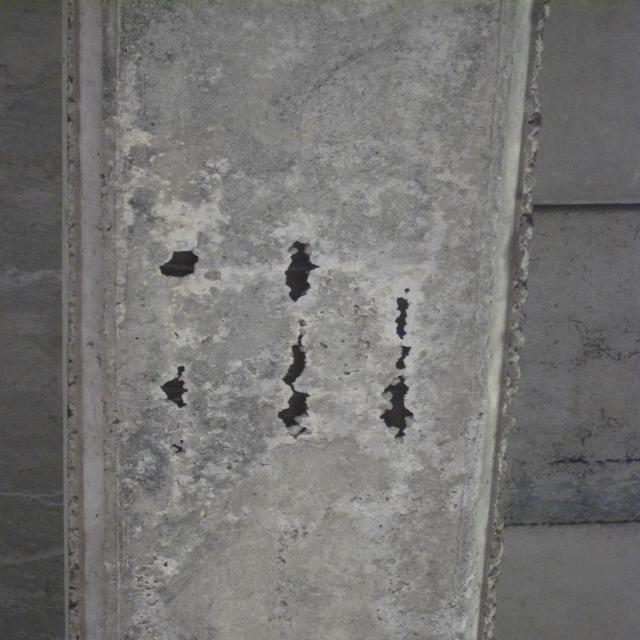concrete spalling: (276, 319, 313, 438), (377, 376, 419, 443), (282, 240, 322, 302), (159, 364, 191, 409), (156, 248, 200, 279), (395, 296, 412, 342), (395, 344, 414, 370)
